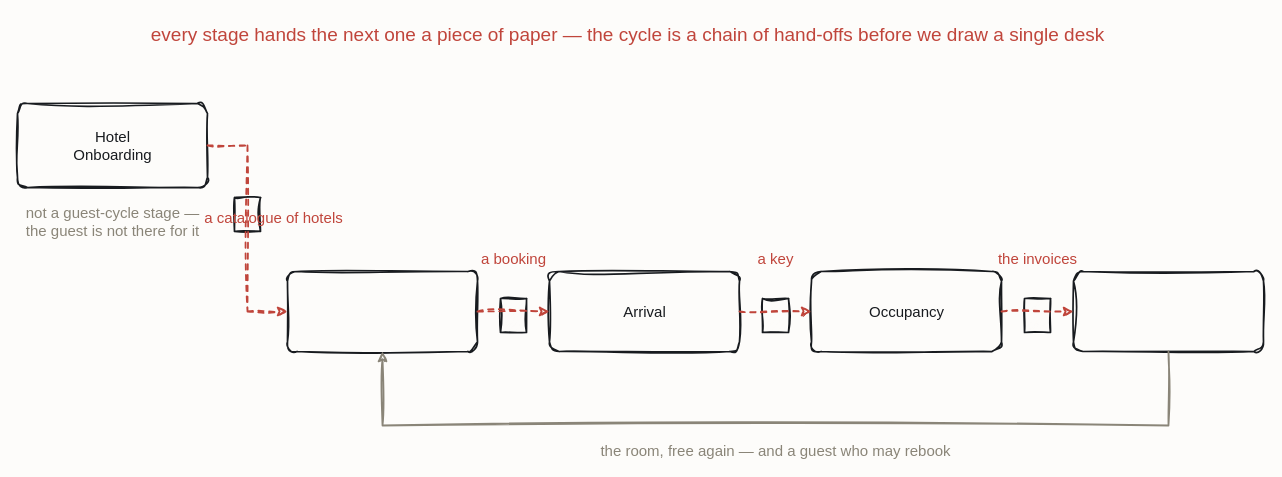
The diagram is 1282 pixels wide and 477 high, and some of its shapes have lost their labels. The shapes that lost their labels are listed below. From the top down, each one's centre as x and y in pixels, then its label:
[382,311]: Pre-Arrival
[1168,311]: Departure
